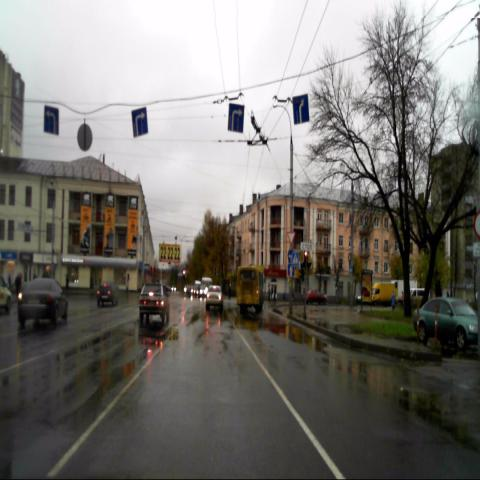5_15_2: (132, 108, 148, 139)
